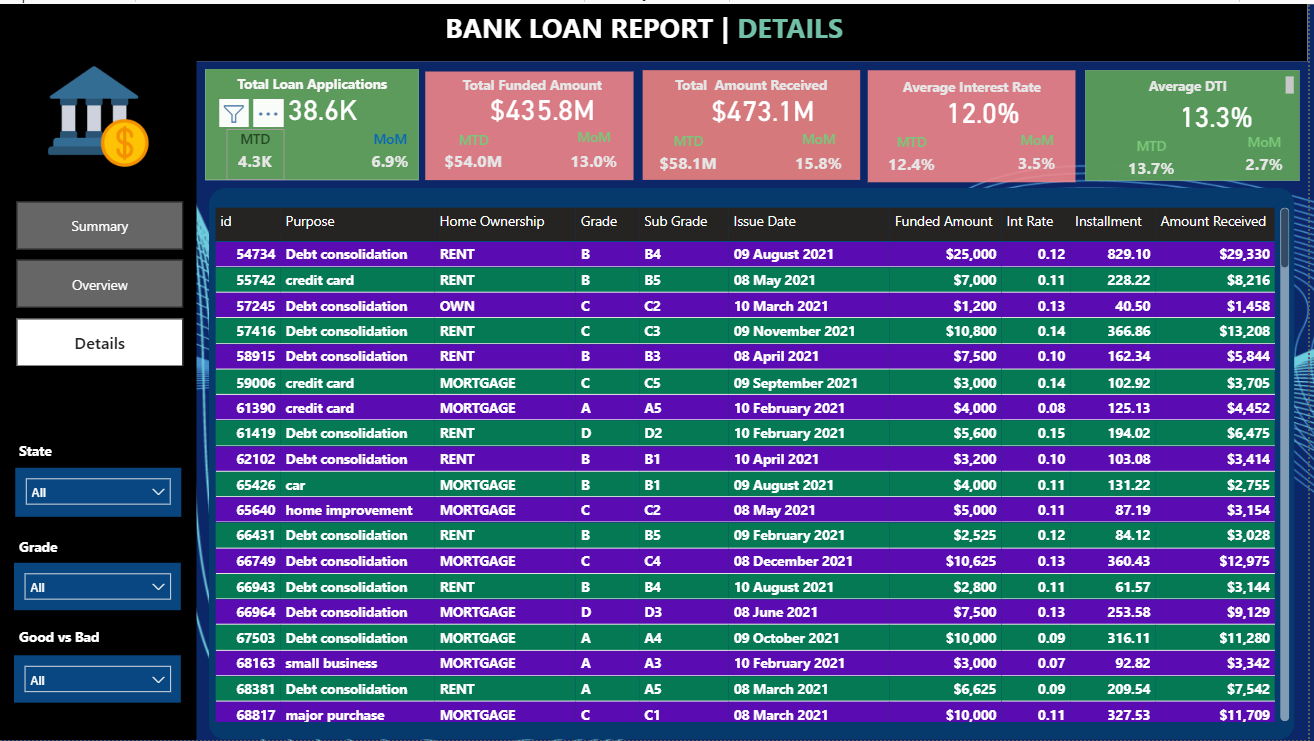

What the dashboard file says about the page in this screenshot:
{"tool":"powerbi","page":{"name":"Details","canvas":[1280,720],"ordinal":2},"visuals":[{"type":"shape","box":[206,180,1062,540],"z":0},{"type":"shape","box":[0,0,1279.7,56],"z":1000},{"type":"shape","box":[0,44,193.2,676.2],"z":2000},{"type":"shape","box":[201.2,63.8,208.8,108.4],"z":2000,"group":"g1"},{"type":"shape","box":[630,65,212.5,107.5],"z":2000,"group":"g3"},{"type":"shape","box":[850,65,203.3,109.6],"z":2000,"group":"g4"},{"type":"shape","box":[1062.8,65,209.6,108],"z":2000,"group":"g5"},{"type":"shape","box":[417.5,65.6,203.8,106.3],"z":2000,"group":"g2"},{"type":"textbox","box":[193.3,0,881.5,54.8],"z":3000},{"type":"group","id":"g1","title":"Group 1","box":[201.2,63.8,207.5,108.8],"z":4000},{"type":"card","fields":{"Values":["financial_loan.Total Loan Amount"]},"box":[222.3,82.4,188.5,39.9],"z":4000,"group":"g1"},{"type":"card","fields":{"Values":["financial_loan.Total Funded Amount"]},"box":[444.3,83.1,175.8,38.9],"z":4000,"group":"g2"},{"type":"card","fields":{"Values":["financial_loan.Total Amount Received"]},"box":[651.4,83.8,191.6,39.4],"z":4000,"group":"g3"},{"type":"card","fields":{"Values":["financial_loan.Avg Interest Rate"]},"box":[870.6,85.6,183.9,38.9],"z":4000,"group":"g4"},{"type":"card","fields":{"Values":["financial_loan.Avg DTI"]},"box":[1107.3,91.6,165.9,35.7],"z":4000,"group":"g5"},{"type":"textbox","box":[201.2,63.8,208.8,35],"z":5000,"group":"g1"},{"type":"group","id":"g2","title":"Group 1","box":[417.5,65,203.8,107.5],"z":5000},{"type":"textbox","box":[424.6,65,194.8,34.2],"z":5000,"group":"g2"},{"type":"textbox","box":[630,65.5,212.2,34.6],"z":5000,"group":"g3"},{"type":"textbox","box":[1062.5,66.5,208.8,27.2],"z":5000,"group":"g5"},{"type":"textbox","box":[850,67.5,203.7,34.2],"z":5000,"group":"g4"},{"type":"group","id":"g3","title":"Group 1","box":[630,65,213.8,108.8],"z":6000},{"type":"card","title":"MTD","fields":{"Values":["financial_loan.MTD Loan Applications"]},"box":[222.5,122.2,56.1,50],"z":6000,"group":"g1"},{"type":"card","title":"MTD","fields":{"Values":["financial_loan.MTD Funded Amount"]},"box":[426.4,124.2,77.6,46.9],"z":6000,"group":"g2"},{"type":"card","title":"MTD","fields":{"Values":["financial_loan.MTD Total Amount Received"]},"box":[632,125.5,84.5,47.5],"z":6000,"group":"g3"},{"type":"card","title":"MTD","fields":{"Values":["financial_loan.MTD Avg Int Rate"]},"box":[851.9,126.7,81.1,46.9],"z":6000,"group":"g4"},{"type":"card","title":"MTD","fields":{"Values":["financial_loan.MTD Avg DTI"]},"box":[1090.5,129.4,73.2,43.1],"z":6000,"group":"g5"},{"type":"group","id":"g4","title":"Group 1","box":[850,65,205,110],"z":7000},{"type":"card","title":"MoM","fields":{"Values":["financial_loan.MoM Funded Amount"]},"box":[544.9,121,75.8,51.5],"z":7000,"group":"g2"},{"type":"card","title":"MoM","fields":{"Values":["financial_loan.MoM Loan Applications"]},"box":[354,122.2,56.1,50],"z":7000,"group":"g1"},{"type":"card","title":"MoM","fields":{"Values":["financial_loan.MoM Total Amount Received"]},"box":[761,122.2,82.5,52.3],"z":7000,"group":"g3"},{"type":"card","title":"MoM","fields":{"Values":["financial_loan.MoM Avg Int Rate"]},"box":[975.8,123.5,79.2,51.5],"z":7000,"group":"g4"},{"type":"card","title":"MoM","fields":{"Values":["financial_loan.MoM Avg DTI"]},"box":[1202.3,126.4,71.5,47.3],"z":7000,"group":"g5"},{"type":"group","id":"g5","title":"Group 1","box":[1062.5,65,211.2,108.8],"z":8000},{"type":"slicer","fields":{"Values":["financial_loan.address_state"]},"box":[16,454,162,48],"z":9000},{"type":"textbox","box":[15,422.5,82.5,31.2],"z":10000},{"type":"slicer","fields":{"Values":["financial_loan.grade"]},"box":[15,546.7,163.3,46.7],"z":11000},{"type":"textbox","box":[15,517.5,83.8,28.8],"z":12000},{"type":"slicer","fields":{"Values":["financial_loan.Good vs Bad Loan"]},"box":[15,636.7,163.3,46.7],"z":13000},{"type":"textbox","box":[15,605,113.8,27.5],"z":14000},{"type":"tableEx","fields":{"Values":["financial_loan.id","financial_loan.purpose","financial_loan.home_ownership","financial_loan.grade","financial_loan.sub_grade","financial_loan.issue_date","financial_loan.Total Funded Amount","Sum(financial_loan.int_rate)","Sum(financial_loan.installment)","financial_loan.Total Amount Received"]},"box":[206,194,1062,512],"z":15000},{"type":"image","box":[41.8,54.8,109.6,125.5],"z":16000},{"type":"pageNavigator","box":[16.7,193.3,163.3,163.3],"z":17000},{"type":"textbox","box":[72.1,76.5,46.2,28.9],"z":18000},{"type":"actionButton","box":[17.1,370.5,160.2,42.8],"z":19000}]}

Visuals, with their boxes in screenshot pixels (x1, y1, x2, y2), scaled from the page's 1280x720 canvas onto the 1314x741 screenshot:
shape: BBox(211, 185, 1302, 740)
shape: BBox(0, 0, 1313, 58)
shape: BBox(0, 45, 198, 740)
shape: BBox(207, 66, 421, 177)
shape: BBox(647, 67, 865, 178)
shape: BBox(873, 67, 1081, 180)
shape: BBox(1091, 67, 1306, 178)
shape: BBox(429, 68, 638, 177)
textbox: BBox(198, 0, 1103, 56)
"Group 1" group: BBox(207, 66, 420, 178)
card - financial_loan.Total Loan Amount: BBox(228, 85, 422, 126)
card - financial_loan.Total Funded Amount: BBox(456, 86, 637, 126)
card - financial_loan.Total Amount Received: BBox(669, 86, 865, 127)
card - financial_loan.Avg Interest Rate: BBox(894, 88, 1083, 128)
card - financial_loan.Avg DTI: BBox(1137, 94, 1307, 131)
textbox: BBox(207, 66, 421, 102)
"Group 1" group: BBox(429, 67, 638, 178)
textbox: BBox(436, 67, 636, 102)
textbox: BBox(647, 67, 865, 103)
textbox: BBox(1091, 68, 1305, 96)
textbox: BBox(873, 69, 1082, 105)
"Group 1" group: BBox(647, 67, 866, 179)
"MTD" card: BBox(228, 126, 286, 177)
"MTD" card: BBox(438, 128, 517, 176)
"MTD" card: BBox(649, 129, 736, 178)
"MTD" card: BBox(875, 130, 958, 179)
"MTD" card: BBox(1119, 133, 1195, 178)
"Group 1" group: BBox(873, 67, 1083, 180)
"MoM" card: BBox(559, 125, 637, 178)
"MoM" card: BBox(363, 126, 421, 177)
"MoM" card: BBox(781, 126, 866, 180)
"MoM" card: BBox(1002, 127, 1083, 180)
"MoM" card: BBox(1234, 130, 1308, 179)
"Group 1" group: BBox(1091, 67, 1308, 179)
slicer - financial_loan.address_state: BBox(16, 467, 183, 517)
textbox: BBox(15, 435, 100, 467)
slicer - financial_loan.grade: BBox(15, 563, 183, 611)
textbox: BBox(15, 533, 101, 562)
slicer - financial_loan.Good vs Bad Loan: BBox(15, 655, 183, 703)
textbox: BBox(15, 623, 132, 651)
tableEx - financial_loan.id x financial_loan.purpose: BBox(211, 200, 1302, 727)
image: BBox(43, 56, 155, 186)
pageNavigator: BBox(17, 199, 185, 367)
textbox: BBox(74, 79, 121, 108)
actionButton: BBox(18, 381, 182, 425)
